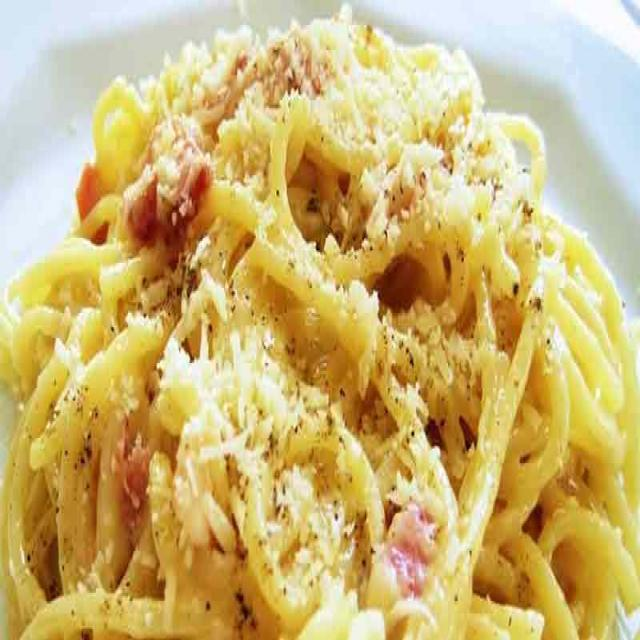Pasta with carbonara sauce: (16, 22, 635, 629)
